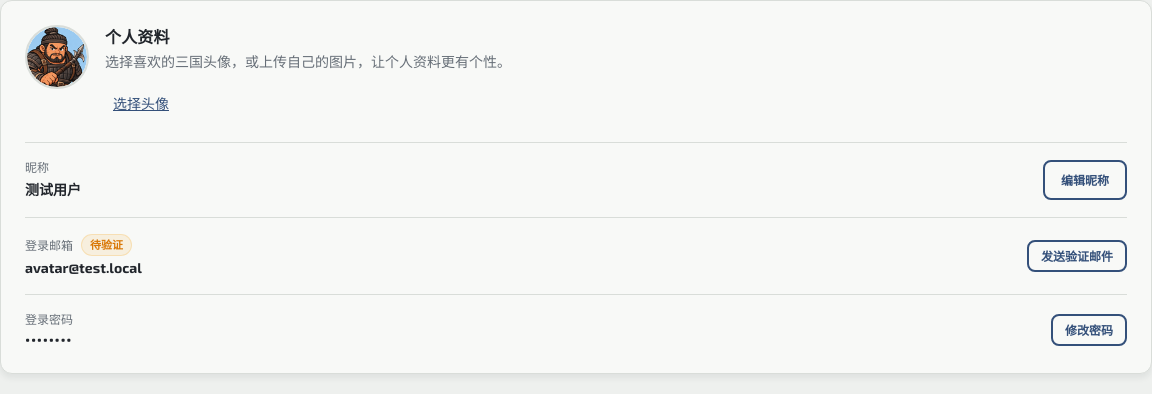
Test: profile pending actions › retains the nickname draft after a failed save and allows retry
Click the button with test id "nickname-edit" at [1085, 180], box [1043,160,1127,200]
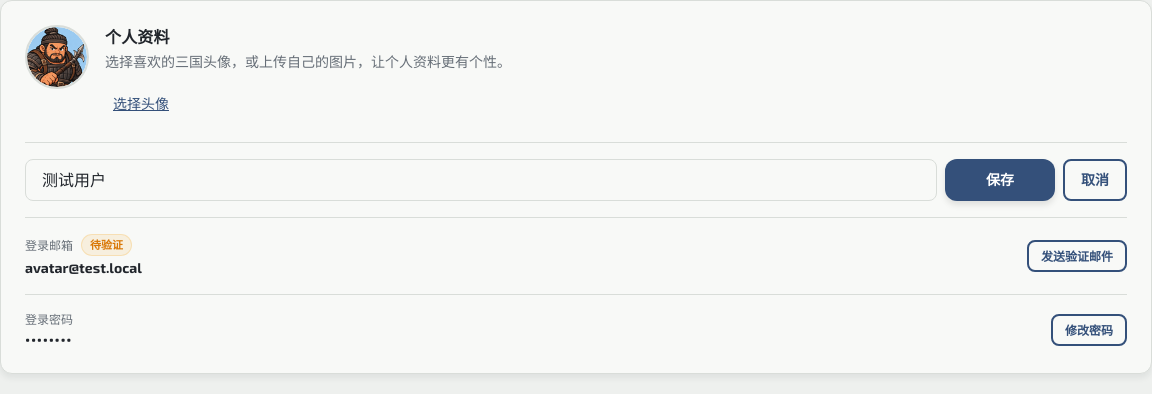
Replace the text in the field named "昵称" with "新昵称" at [481, 180], box [25,159,937,201]
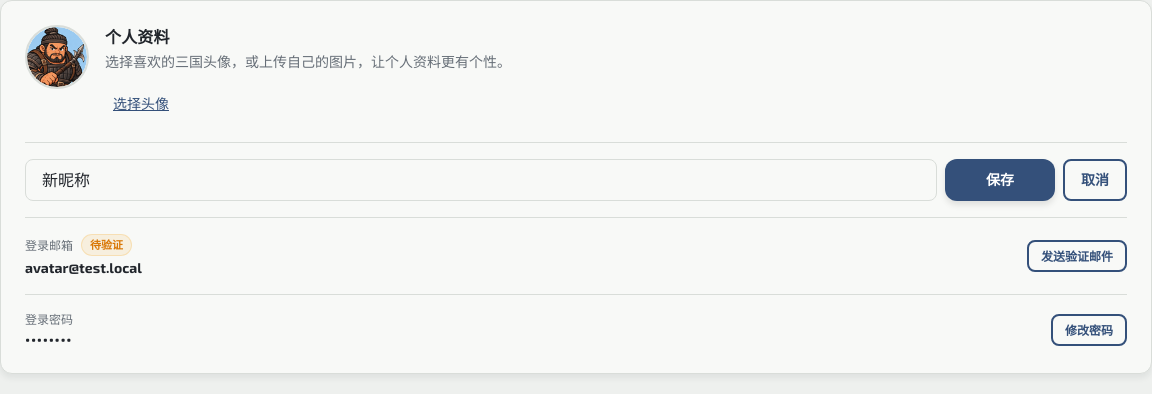
Click the button with test id "nickname-save" at [1000, 180], box [945,159,1055,201]
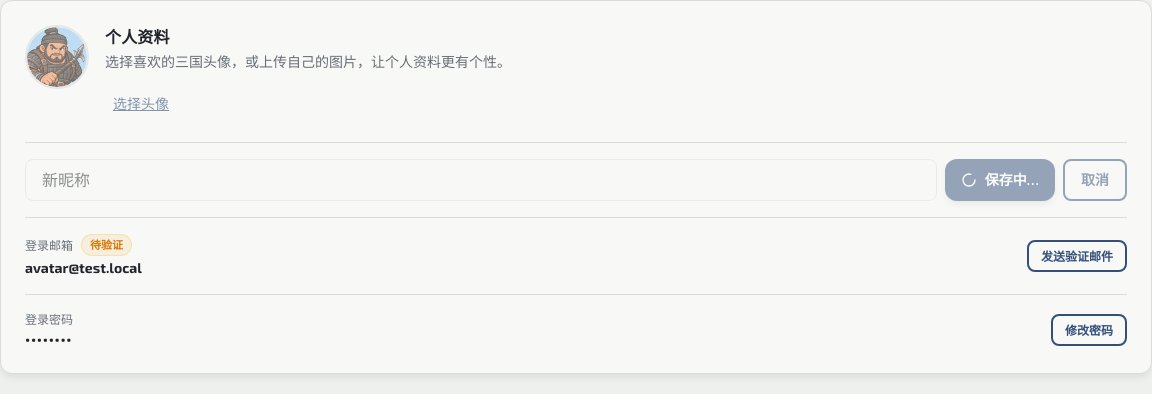
Now the button "保存中…" is disabled
Click the button with test id "nickname-save" at [1000, 180], box [945,159,1055,201]
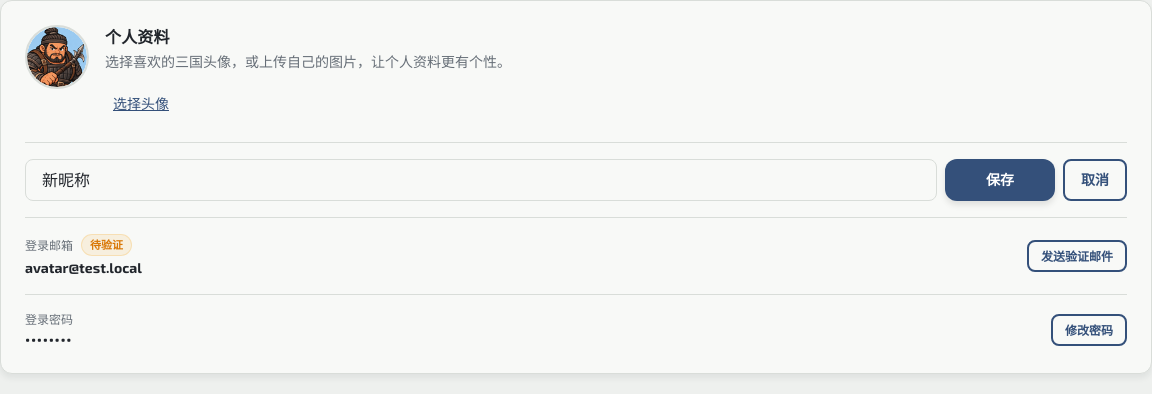
Click the button "保存" at [1000, 180], box [945,159,1055,201]
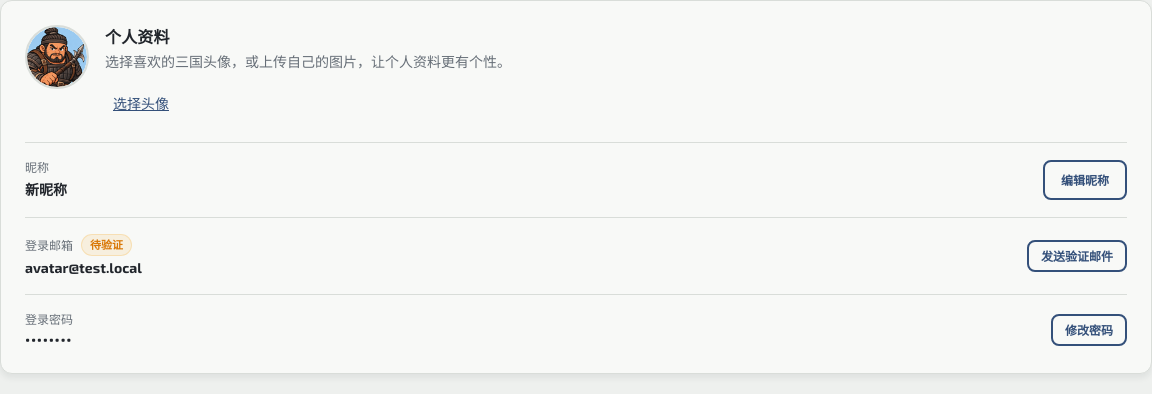
Now the text "新昵称" is shown, box [25,181,67,198]
